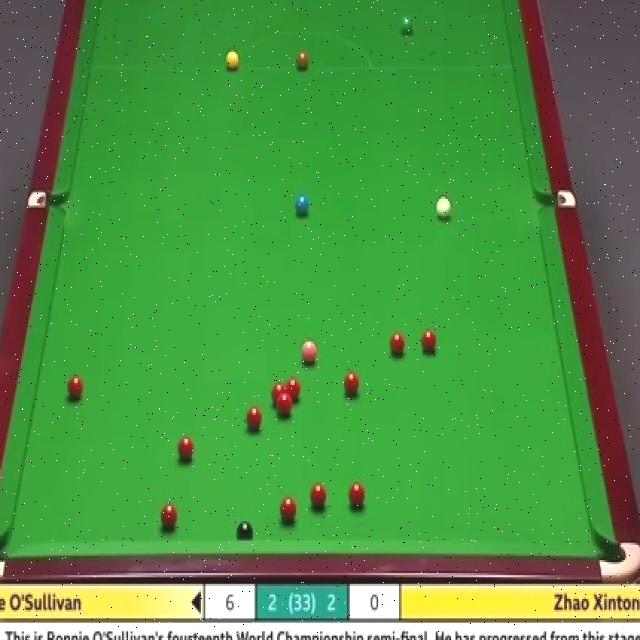black-ball: (236, 522, 253, 539)
blue-ball: (294, 193, 308, 217)
brown-ball: (301, 46, 315, 67)
green-ball: (401, 12, 413, 34)
pink-ball: (299, 339, 319, 363)
red-ball: (244, 404, 264, 433), (176, 435, 196, 462), (276, 392, 294, 421), (310, 483, 328, 512), (160, 501, 178, 529), (278, 495, 296, 523), (420, 327, 437, 355), (284, 376, 302, 402), (66, 376, 84, 401), (348, 483, 366, 507), (344, 370, 360, 396), (272, 382, 287, 408), (390, 333, 406, 355)
white-ball: (434, 196, 453, 219)
yellow-ball: (223, 50, 240, 71)
